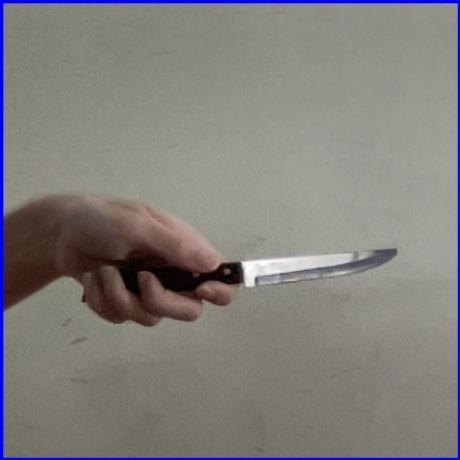1: (6, 193, 237, 328)
weapon: (113, 246, 402, 293)
